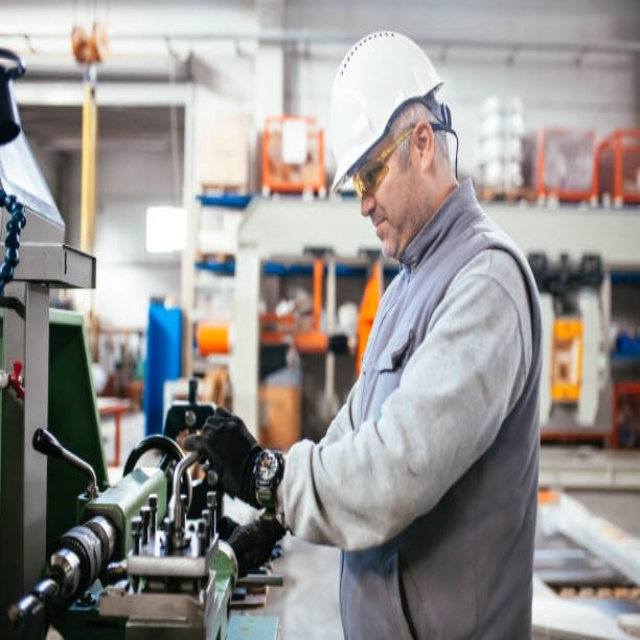Gafas: (353, 122, 432, 198)
Guantes: (186, 406, 273, 508), (222, 513, 285, 576)
Sin_mascara: (367, 207, 402, 259)
